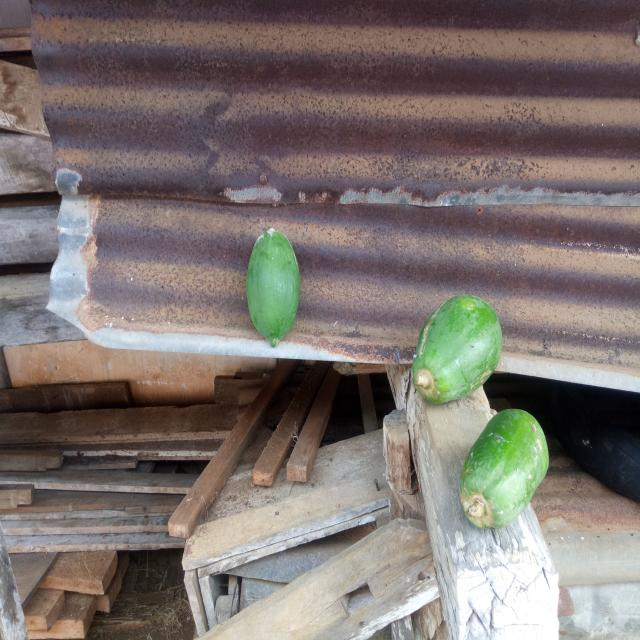Pepaya unrippen: (404, 279, 508, 405), (458, 401, 555, 525), (237, 210, 309, 348)
